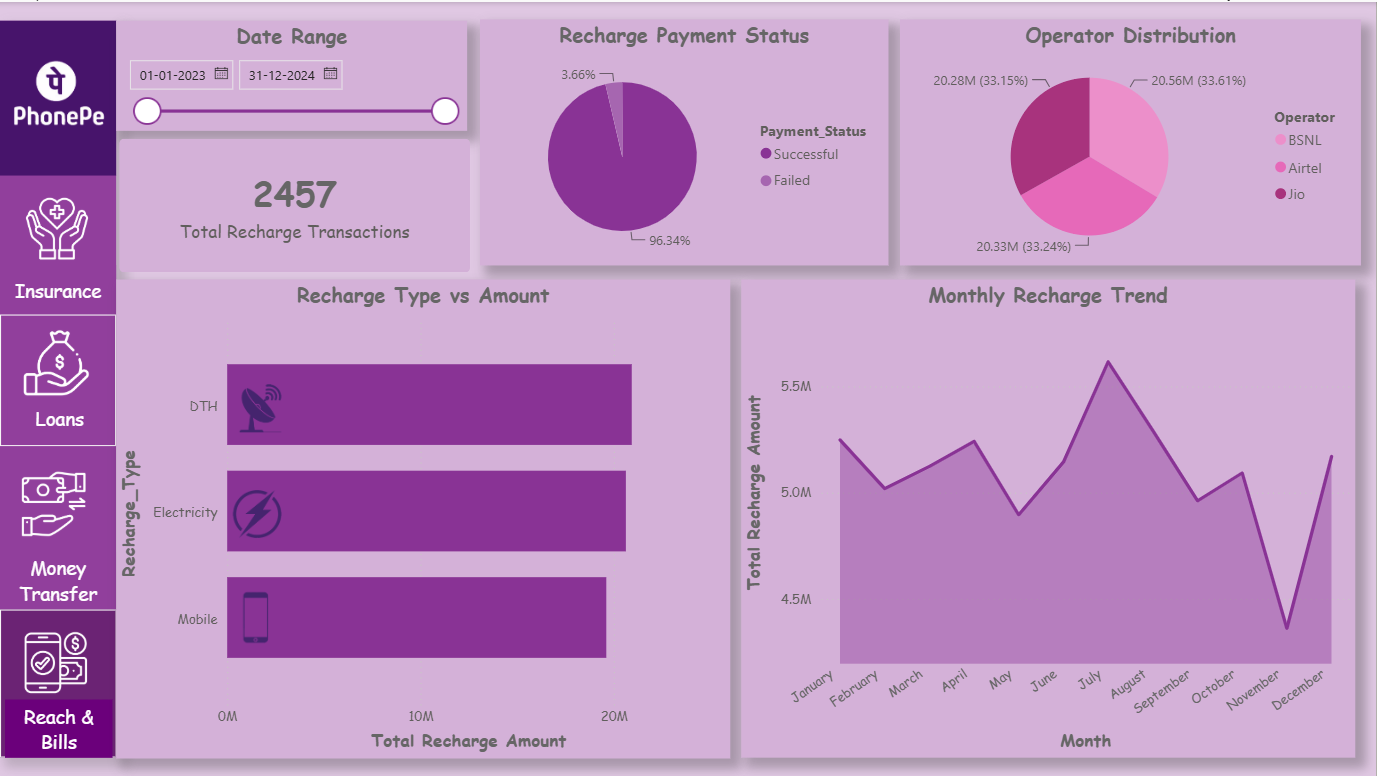

Layout of this report page (visuals, bound fields, positions):
{"tool":"powerbi","page":{"name":"Reach & Bills","canvas":[1280,720],"ordinal":4},"visuals":[{"type":"shape","box":[0,18,108.1,684.4],"z":0},{"type":"shape","box":[0,17.4,108.1,144.2],"z":1000},{"type":"image","box":[9.3,29.1,90.7,116.3],"z":2000},{"type":"shape","box":[0,245.3,108.1,45.3],"z":3000},{"type":"image","box":[16.7,176.7,73.7,68.2],"z":4000},{"type":"shape","box":[0,290.6,108.1,122.5],"z":5000},{"type":"image","box":[13.2,301.4,81.7,67.2],"z":6000},{"type":"shape","box":[0,564.9,108.5,137.7],"z":7000},{"type":"image","box":[16.7,581.6,71,66.8],"z":8000},{"type":"shape","box":[4.2,648.3,100.2,54.3],"z":9000},{"type":"image","box":[14.4,433.5,72,66],"z":10000},{"type":"shape","box":[0,511.6,108.1,52.3],"z":11000},{"type":"shape","box":[7.2,368.6,97.3,36],"z":12000},{"type":"slicer","title":"Date Range","fields":{"Values":["Calendar.Date"]},"box":[108.1,17.4,326.7,102.3],"z":13000},{"type":"cardVisual","fields":{"Data":["Measures (2).Total Recharge Transactions"]},"box":[94.2,110.5,360.5,158.1],"z":14000},{"type":"pieChart","title":"Recharge Payment Status","fields":{"Category":["Recharge_Bills.Payment_Status"],"Y":["Measures (2).Total Recharge Transactions"]},"box":[446.5,16.3,380.2,229.1],"z":15000},{"type":"pieChart","title":"Operator Distribution","fields":{"Category":["Recharge_Bills.Operator"],"Y":["Measures (2).Total Recharge Amount"]},"box":[837.2,16.3,429.1,229.1],"z":16000},{"type":"clusteredBarChart","title":"Recharge Type vs Amount","fields":{"Category":["Recharge_Bills.Recharge_Type"],"Y":["Measures (2).Total Recharge Amount"]},"box":[108.1,258.1,570.9,445.4],"z":17000},{"type":"areaChart","title":"Monthly Recharge Trend","fields":{"Category":["Calendar.Month"],"Y":["Measures (2).Total Recharge Amount"]},"box":[689,258,571,445],"z":18000},{"type":"image","box":[211.6,352.3,60.5,47.7],"z":19000},{"type":"image","box":[211.6,452.3,54.7,47.7],"z":20000},{"type":"image","box":[211.6,546.5,54.7,52.3],"z":21000}]}

Visuals, with their boxes in screenshot pixels (x1, y1, x2, y2), scaled from the page's 1280x720 canvas onto the 1377x776 screenshot:
shape: [0, 19, 116, 757]
shape: [0, 19, 116, 174]
image: [10, 31, 108, 157]
shape: [0, 264, 116, 313]
image: [18, 190, 97, 264]
shape: [0, 313, 116, 445]
image: [14, 325, 102, 397]
shape: [0, 609, 117, 757]
image: [18, 627, 94, 699]
shape: [5, 699, 112, 757]
image: [15, 467, 93, 538]
shape: [0, 551, 116, 608]
shape: [8, 397, 112, 436]
"Date Range" slicer: [116, 19, 468, 129]
cardVisual - Measures (2).Total Recharge Transactions: [101, 119, 489, 289]
"Recharge Payment Status" pieChart: [480, 18, 889, 264]
"Operator Distribution" pieChart: [901, 18, 1362, 264]
"Recharge Type vs Amount" clusteredBarChart: [116, 278, 730, 758]
"Monthly Recharge Trend" areaChart: [741, 278, 1355, 758]
image: [228, 380, 293, 431]
image: [228, 487, 286, 539]
image: [228, 589, 286, 645]
